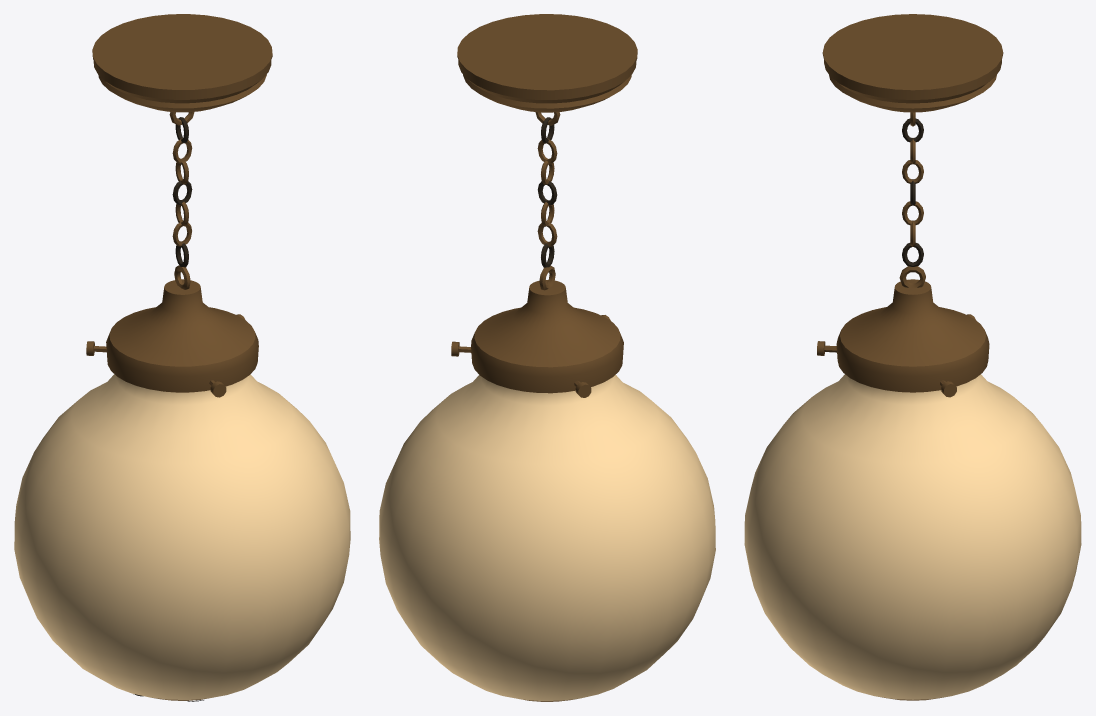
Rendered from ceiling_globe.glb.
3 views of the same model, side by side, from view 1: azimuth 30°, elevation 25°; view 2: azimuth 150°, elevation 25°; view 3: azimuth 270°, elevation 25° (orthographic).
Parts seen in each view (by area): view 1: teil.003, teil, teil.001; view 2: teil.003, teil, teil.001; view 3: teil.003, teil, teil.001.
Boxes of the visible parts, box(x1,y1,x2,y2) form: teil.003: box(14, 374, 350, 699); teil: box(86, 14, 272, 397); teil.001: box(172, 117, 192, 267); teil.003: box(379, 374, 715, 700); teil: box(451, 14, 637, 397); teil.001: box(537, 117, 557, 267); teil.003: box(744, 374, 1081, 699); teil: box(817, 14, 1003, 397); teil.001: box(902, 118, 923, 266).
Bounding box in the file's own units: 0.2951 × 0.6116 × 0.2951.
